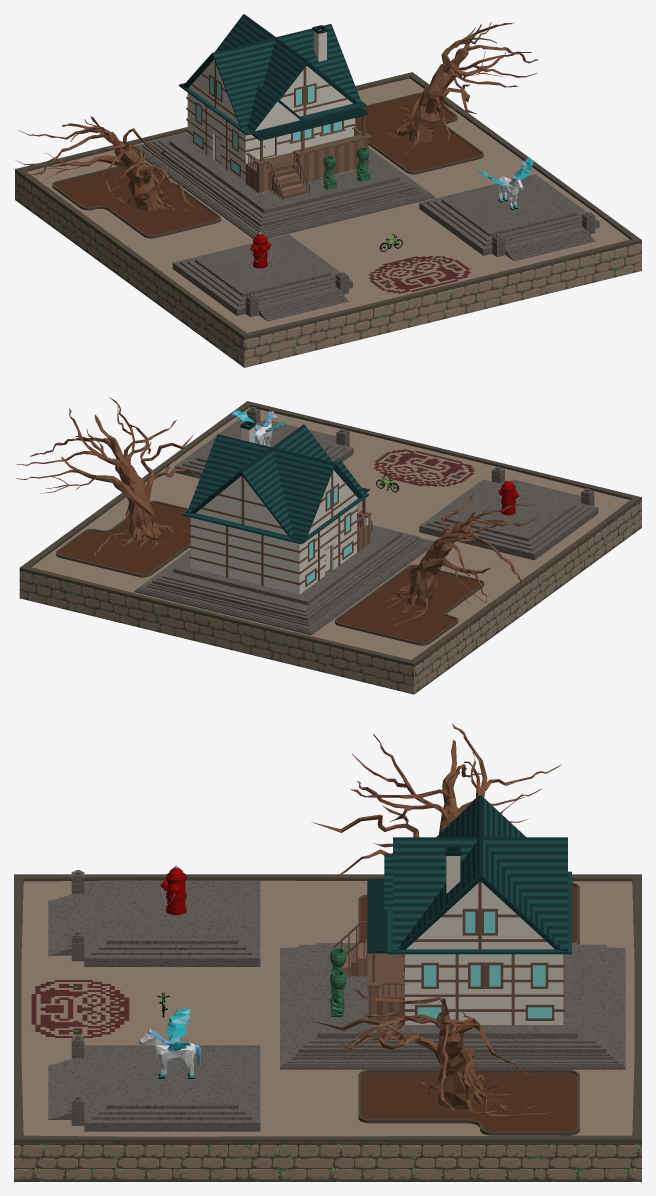
The picture shows the model from 3 angles, top to bottom: view 1: azimuth 30°, elevation 25°; view 2: azimuth 150°, elevation 25°; view 3: azimuth 270°, elevation 25°; orthographic projection. The views are drawn at different scales.
Visible parts, largest first — view 1: Cube.011, Cube.793, ANIMAL_PEGASO, OBJRANDOM_FIRE_HYDRANT; view 2: Cube.011, Cube.793, ANIMAL_PEGASO, OBJRANDOM_FIRE_HYDRANT; view 3: Cube.011, Cube.793, ANIMAL_PEGASO, OBJRANDOM_FIRE_HYDRANT.
Boxes of the visible parts, left/top/right/bottom form: Cube.011: left=15, top=22, right=641, bottom=367; Cube.793: left=179, top=14, right=371, bottom=199; ANIMAL_PEGASO: left=478, top=157, right=533, bottom=209; OBJRANDOM_FIRE_HYDRANT: left=250, top=232, right=271, bottom=268; Cube.011: left=14, top=397, right=641, bottom=694; Cube.793: left=182, top=421, right=372, bottom=594; ANIMAL_PEGASO: left=231, top=410, right=286, bottom=446; OBJRANDOM_FIRE_HYDRANT: left=498, top=479, right=519, bottom=515; Cube.011: left=14, top=723, right=641, bottom=1181; Cube.793: left=333, top=795, right=571, bottom=1025; ANIMAL_PEGASO: left=139, top=1008, right=201, bottom=1078; OBJRANDOM_FIRE_HYDRANT: left=160, top=865, right=186, bottom=915.
Size of the model in its own units: 5099 by 1683 by 4000.
29 materials, 7 textured.
